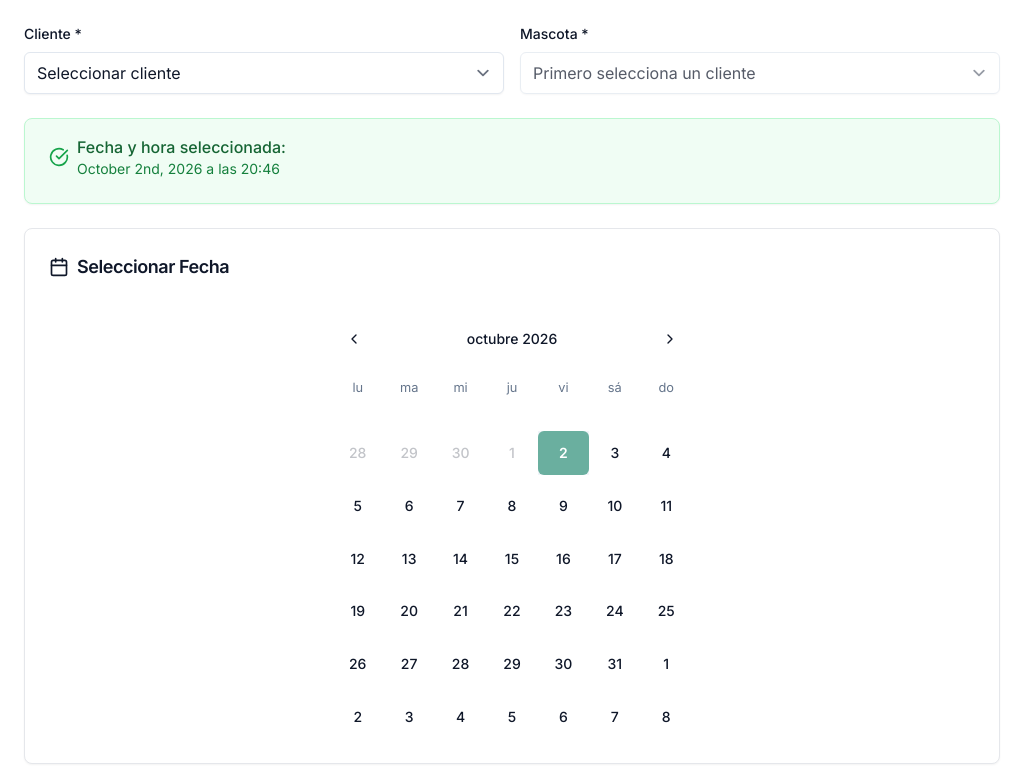
Test case: AppointmentForm Component › Pet Filtering by Customer › should enable pet select when customer is selected
Select "Juan Pérez - 555-1234" in the dropdown with test id "appointment-customer-select" at coordinates (264, 73), box [24,52,504,94]
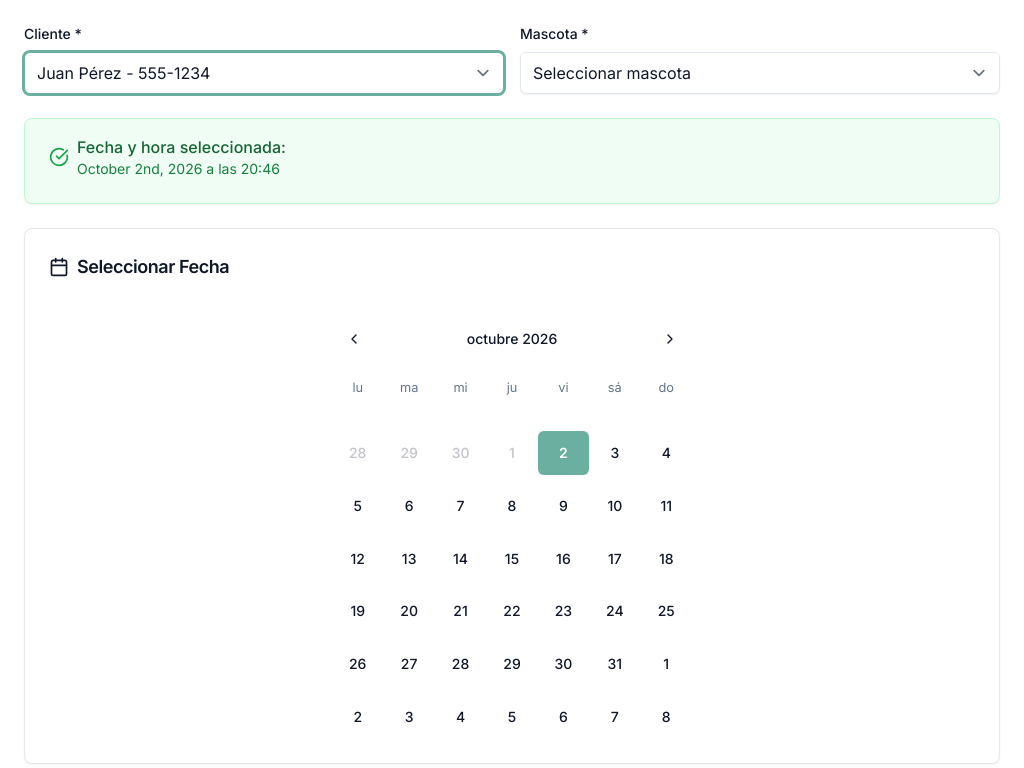
Expected: the dropdown with test id "appointment-pet-select" is enabled, [520,52,1000,94]
